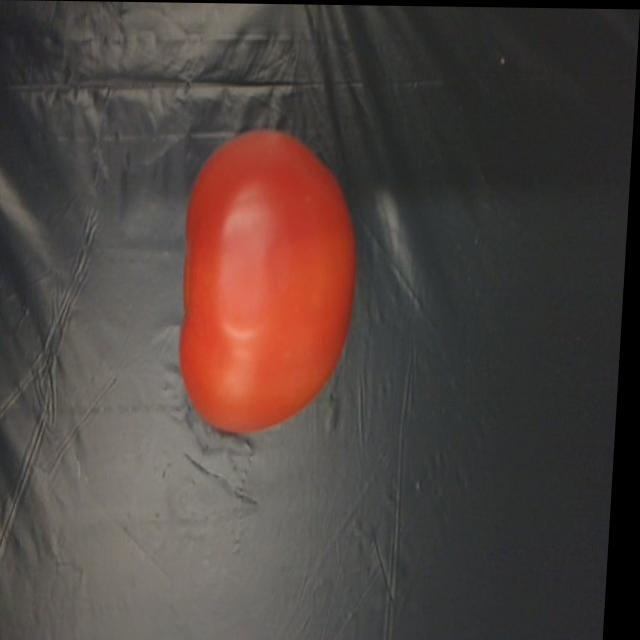kirmizi: (158, 122, 380, 442)
